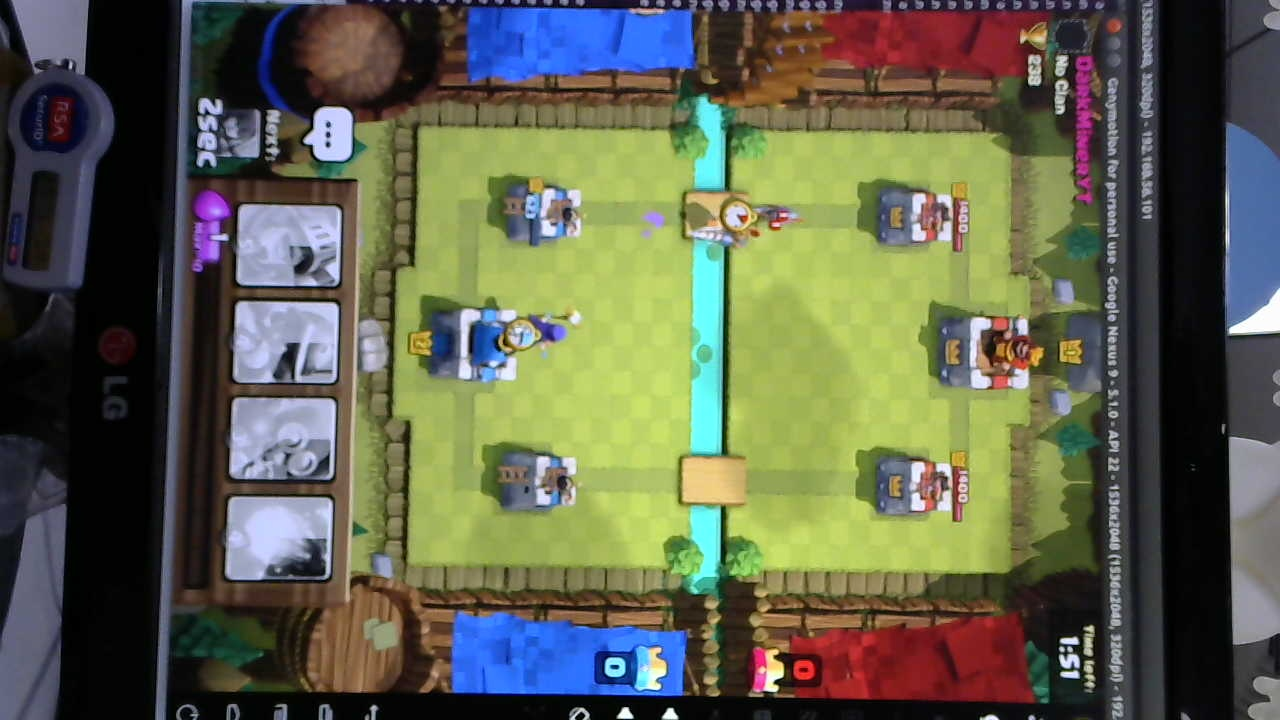arena: (496, 448, 580, 512), (498, 184, 586, 242)
earena: (868, 457, 960, 519), (867, 190, 954, 249)
eking: (939, 312, 1039, 392)
king: (433, 305, 523, 381)
musketeer: (750, 197, 795, 241)
prince: (692, 204, 757, 252)
witch: (520, 309, 585, 358)
